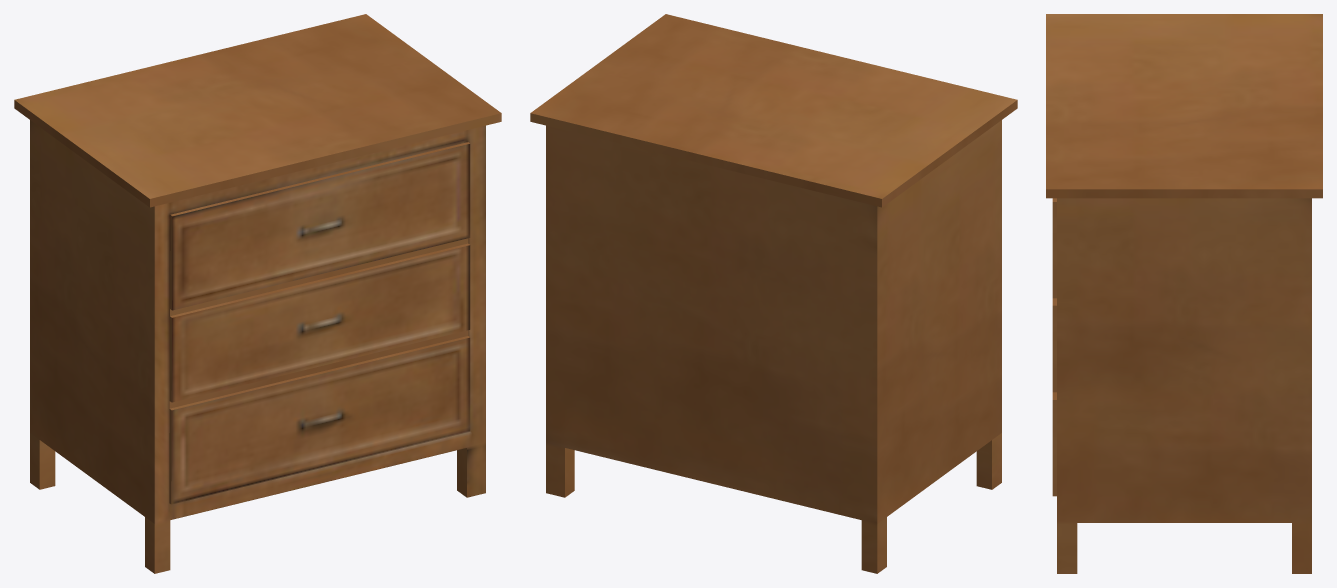
The model's file is comoda_a.glb.
The picture shows the model from 3 angles, left to right: view 1: azimuth 30°, elevation 25°; view 2: azimuth 150°, elevation 25°; view 3: azimuth 270°, elevation 25°; orthographic projection. The views are drawn at different scales.
Parts seen in each view (by area): view 1: comoda_a; view 2: comoda_a; view 3: comoda_a.
Boxes of the visible parts, x1,y1,x2,y2 form: comoda_a: (14,14,501,573); comoda_a: (530,14,1017,573); comoda_a: (1046,14,1322,573).
Size of the model in its own units: 0.9968 by 1.03 by 0.6649.
1 material, 1 textured.
